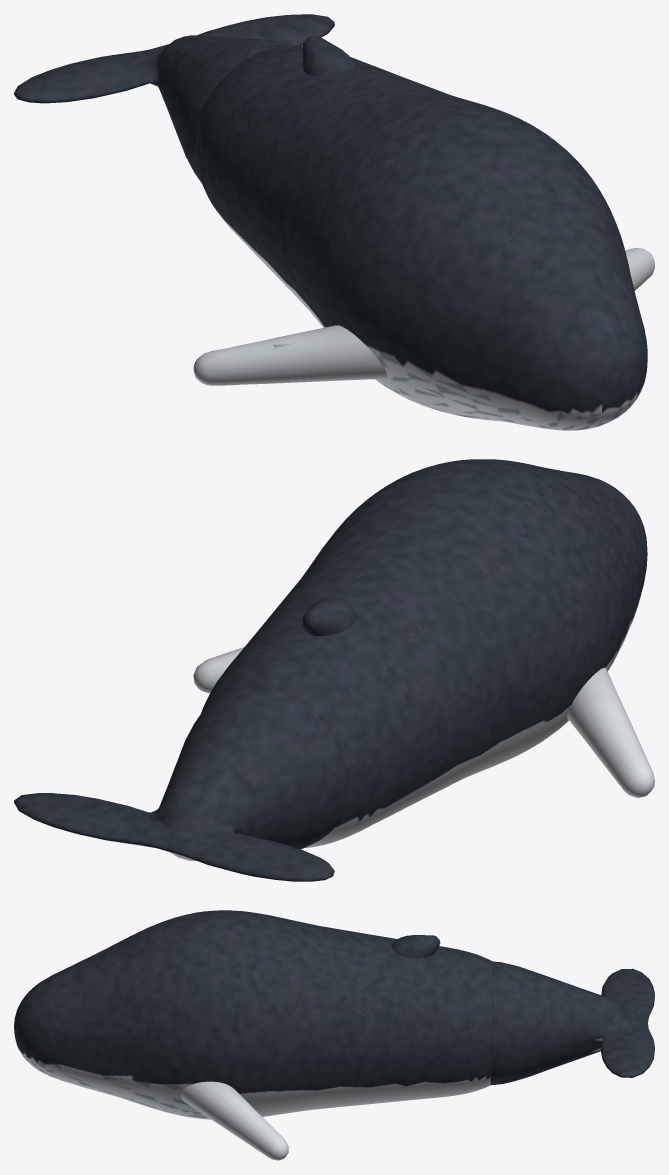
Rendered from whale.glb.
3 views of the same model, one above another, from view 1: azimuth 30°, elevation 25°; view 2: azimuth 150°, elevation 25°; view 3: azimuth 270°, elevation 25° (orthographic). The views are drawn at different scales.
Visible parts, largest first — view 1: whale, tail; view 2: whale, tail; view 3: whale, tail.
Boxes of the visible parts, left/top/right/bottom form: whale: left=193, top=35, right=654, bottom=430; tail: left=14, top=14, right=334, bottom=182; whale: left=193, top=459, right=654, bottom=847; tail: left=14, top=684, right=348, bottom=881; whale: left=14, top=910, right=492, bottom=1160; tail: left=490, top=961, right=654, bottom=1085.
Bounding box in the file's own units: 1.91 × 1.08 × 3.3.
Materials: 1 (1 with a texture image).
